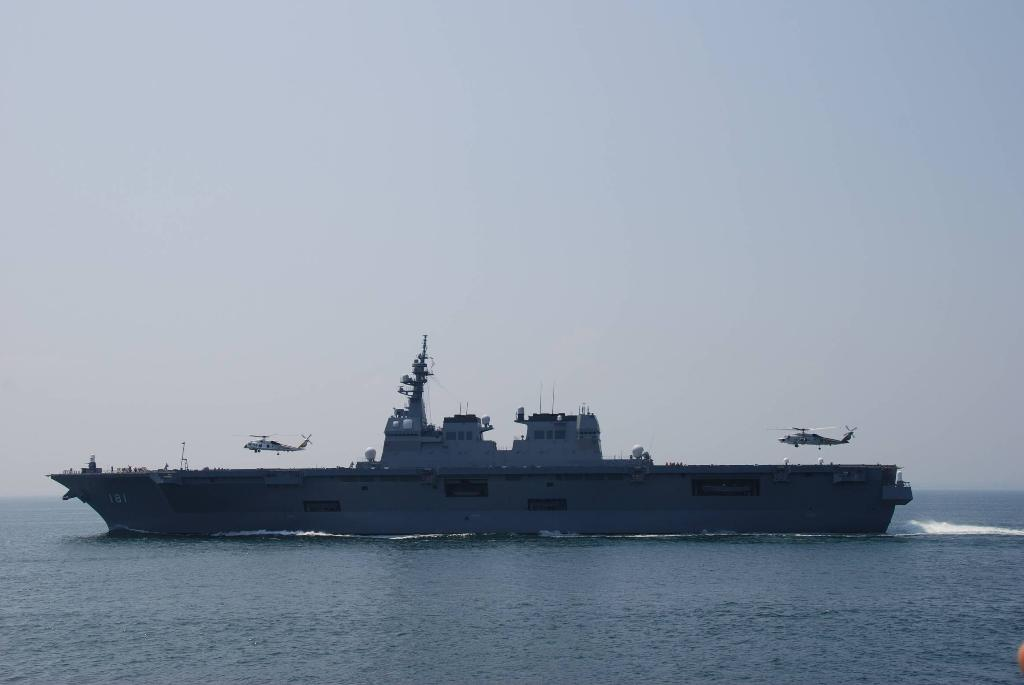Warship: (40, 328, 916, 548)
